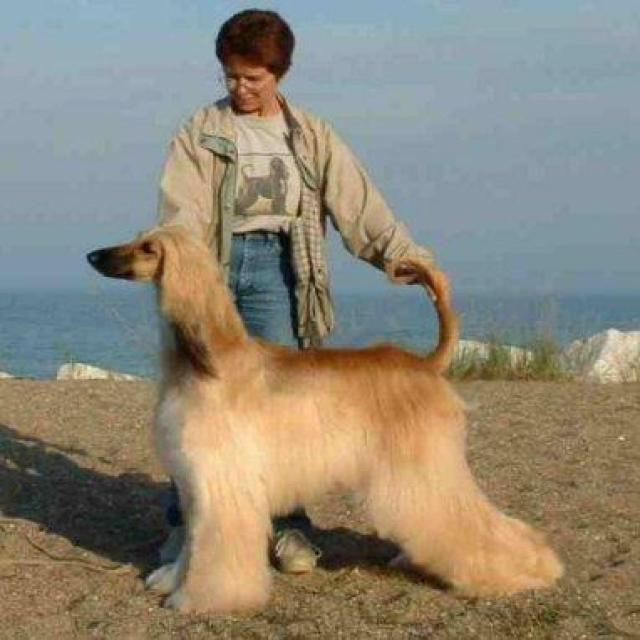afghan_hound: (87, 222, 563, 612)
